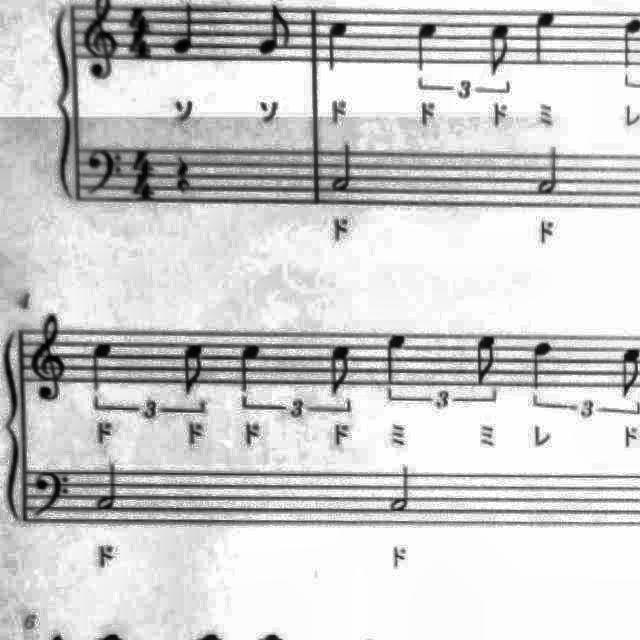Bass-clef: (31, 464, 78, 524), (79, 142, 125, 202)
Eighth-note: (481, 15, 519, 83), (255, 0, 298, 60), (173, 335, 211, 401), (322, 336, 358, 399), (470, 328, 504, 390), (615, 343, 640, 405), (639, 343, 640, 405)
Half-note: (91, 458, 127, 518), (532, 140, 568, 200), (387, 459, 421, 516), (328, 138, 360, 198)
Quarter-note: (376, 327, 414, 398), (525, 2, 563, 70), (321, 12, 359, 76), (409, 14, 446, 78), (85, 334, 121, 398), (524, 334, 560, 394), (232, 336, 268, 396), (167, 0, 201, 60), (616, 12, 640, 76)
Quarter-rest: (170, 152, 198, 200)
Treble-clef: (28, 307, 74, 405)
